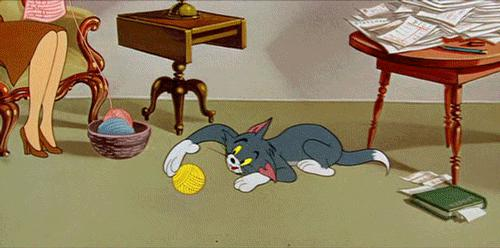tom: (161, 117, 392, 194)
